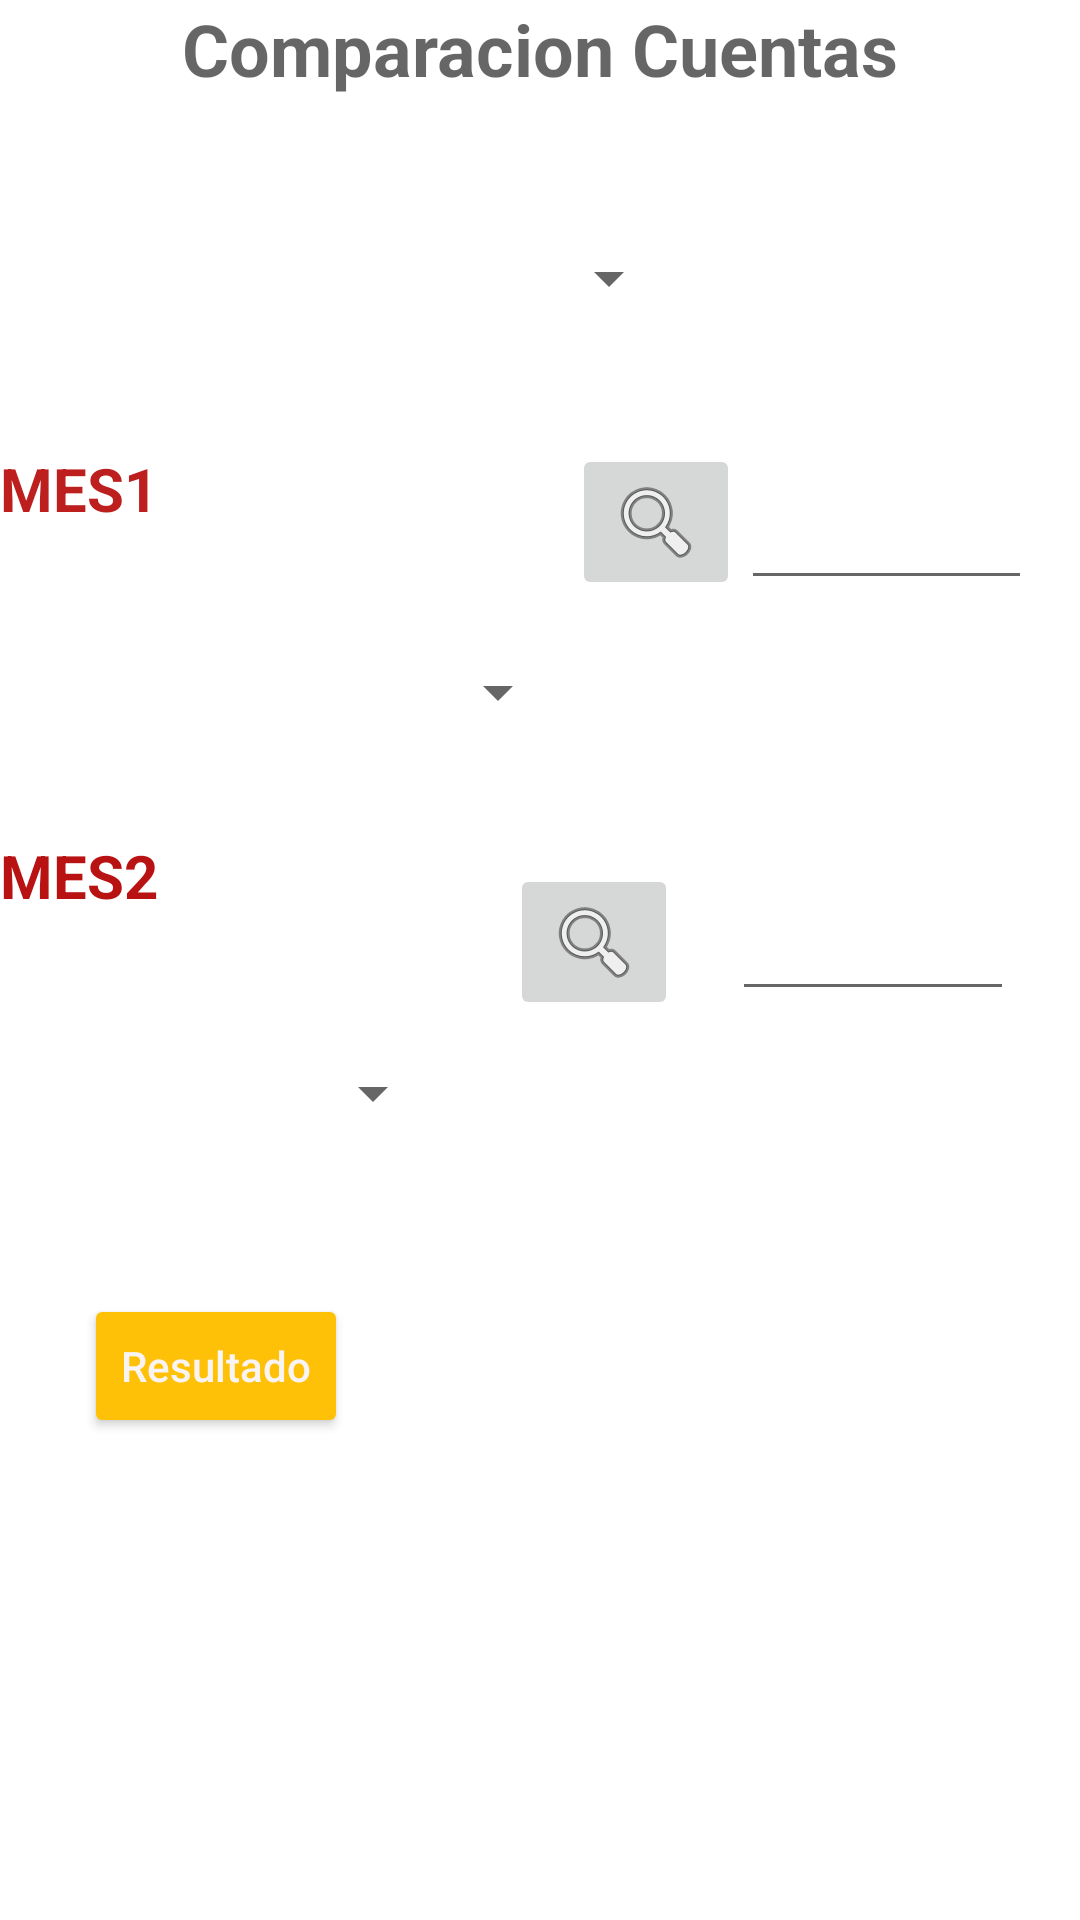

Named icons in this screenshot (1080px×1920px) and their bounding boxes, (x1, y1, x2, y2):
search: (584, 462, 728, 582), (522, 882, 666, 1002)
